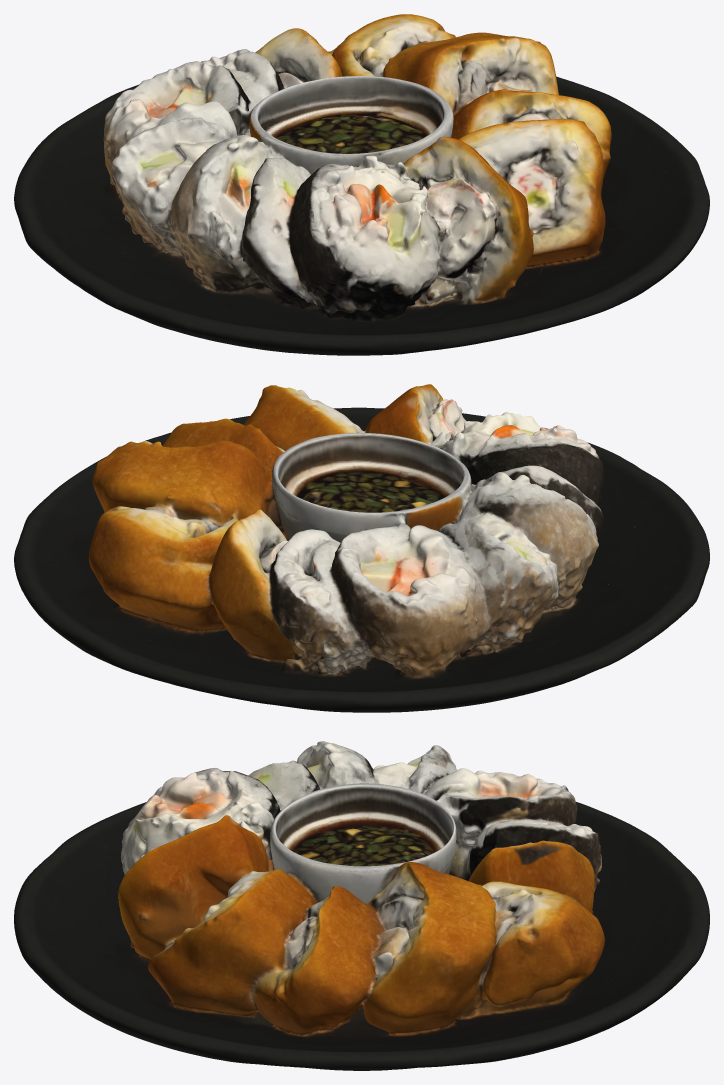
Rendered from Meshy_AI_Sushi_Ring_with_Dippi_0908075434_texture.glb.
3 views of the same model, one above another, from view 1: azimuth 30°, elevation 25°; view 2: azimuth 150°, elevation 25°; view 3: azimuth 270°, elevation 25° (orthographic).
Visible parts, largest first — view 1: mesh_node; view 2: mesh_node; view 3: mesh_node.
Part boxes in pixels (<box>): mesh_node: <box>14,14,709,355</box>; mesh_node: <box>14,384,709,712</box>; mesh_node: <box>14,741,709,1070</box>.
Size of the model in its own units: 1.87 by 0.4924 by 1.9.
1 material, 1 textured.
